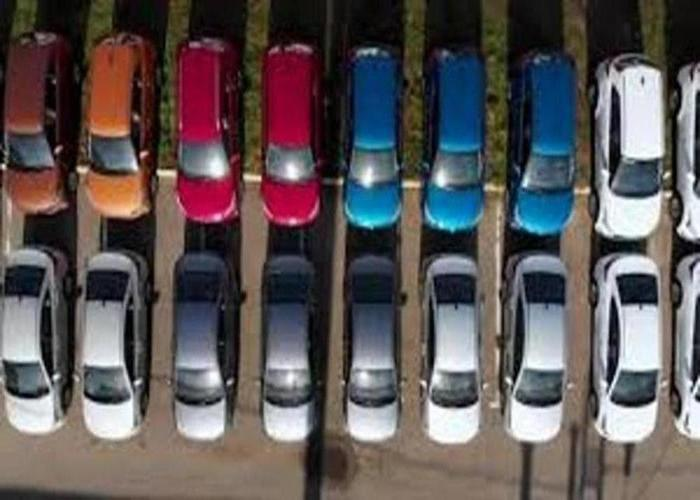car: (164, 250, 238, 444), (510, 45, 584, 239), (338, 250, 412, 444), (591, 251, 665, 445), (595, 51, 669, 245), (168, 30, 242, 224), (77, 29, 151, 223), (70, 248, 144, 442), (423, 253, 497, 447), (333, 42, 407, 236), (250, 248, 324, 442)
